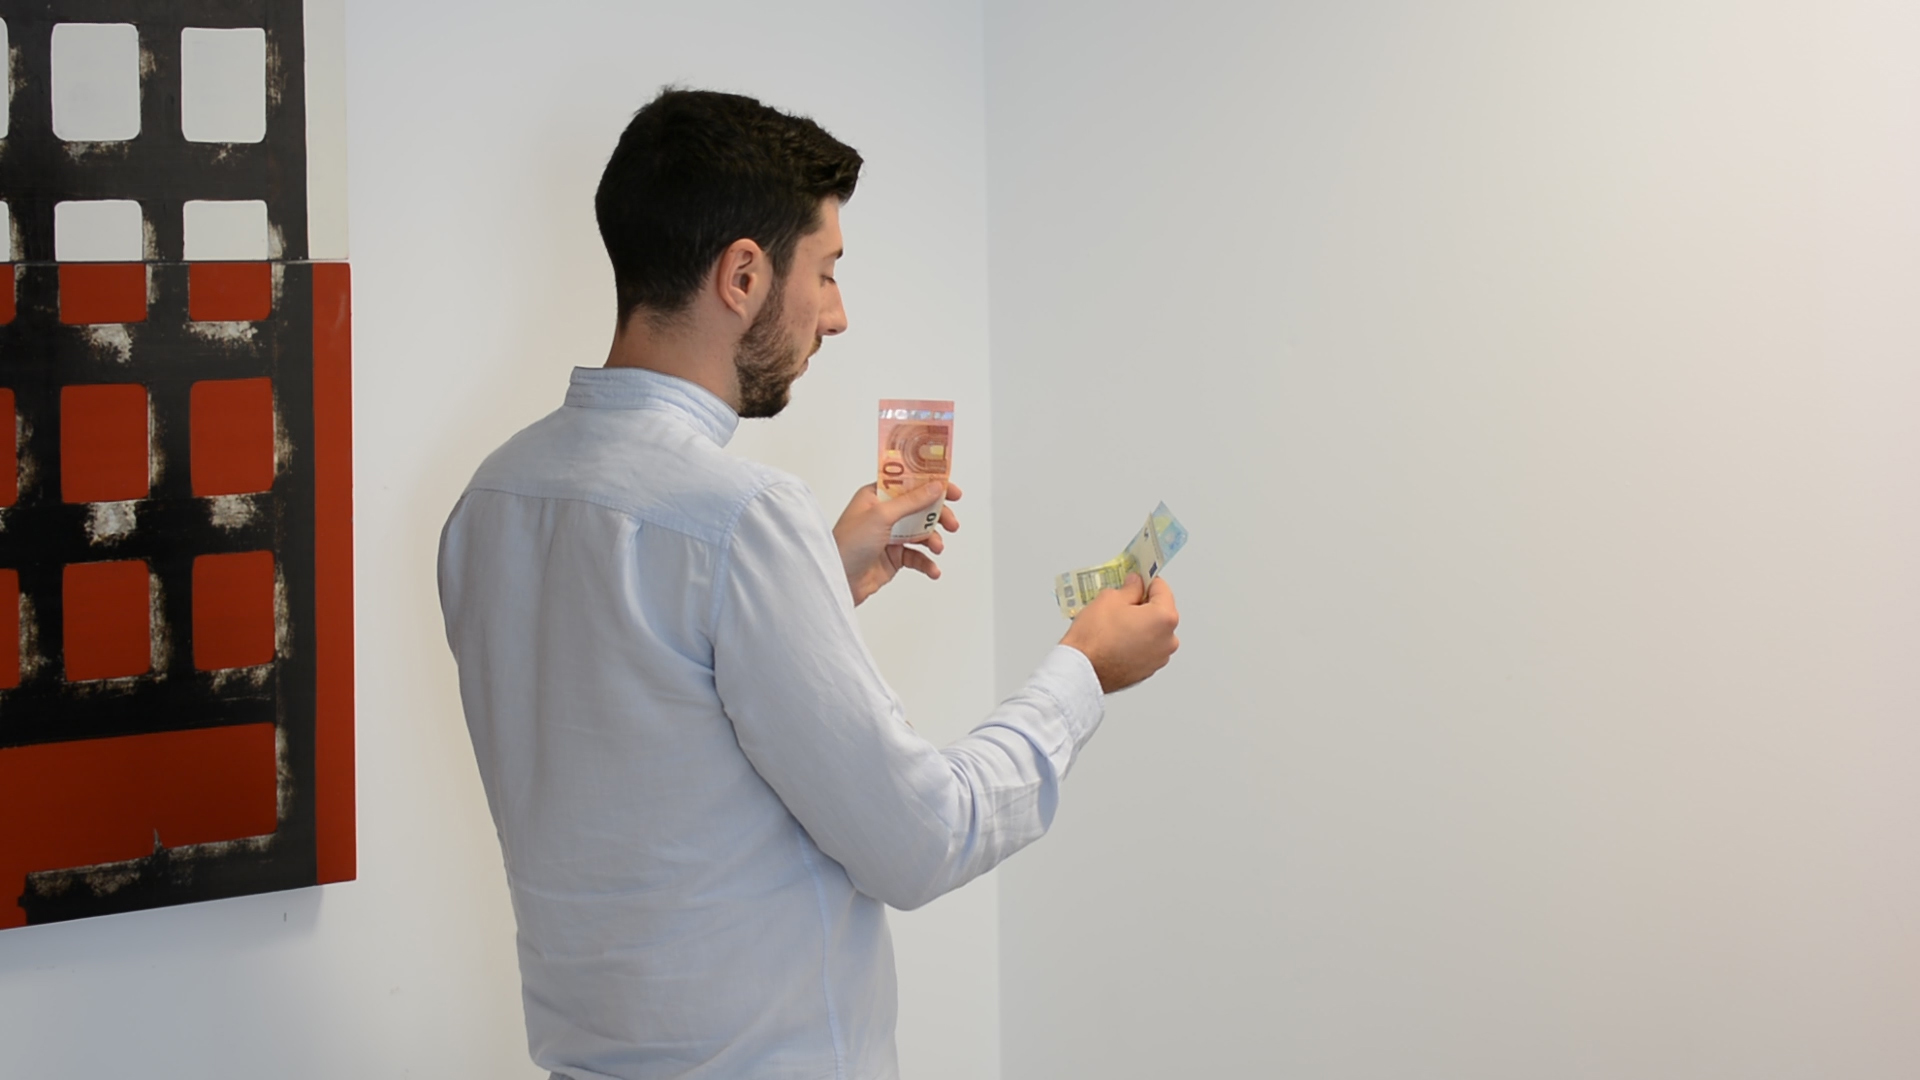billete: (1055, 498, 1192, 624), (876, 396, 955, 546)
